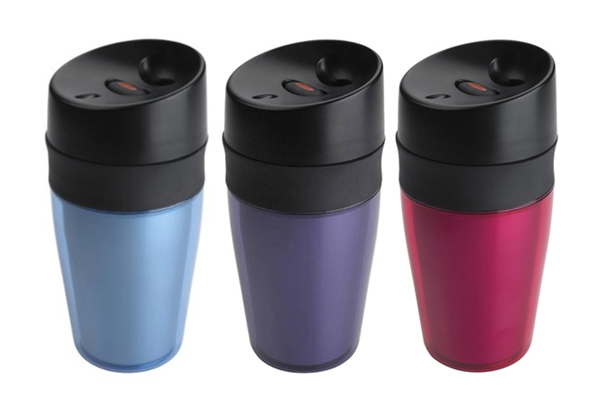Tumbler: (37, 17, 217, 373), (390, 19, 559, 377), (232, 17, 378, 383)
